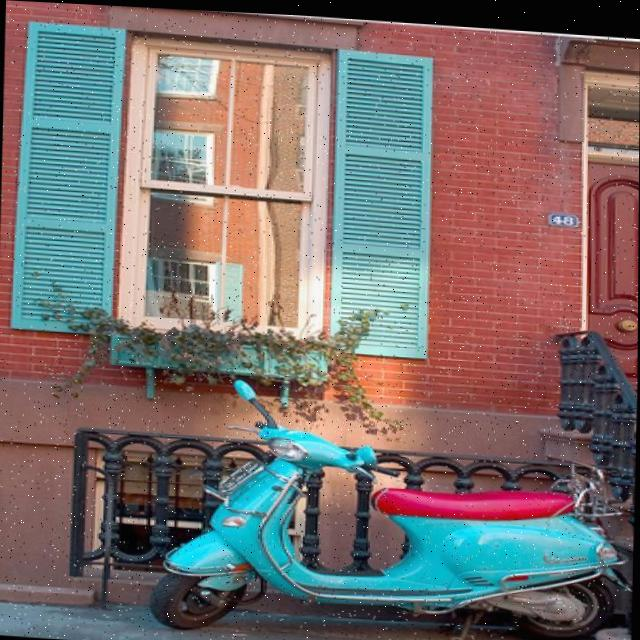motorcycle: (150, 371, 635, 640)
